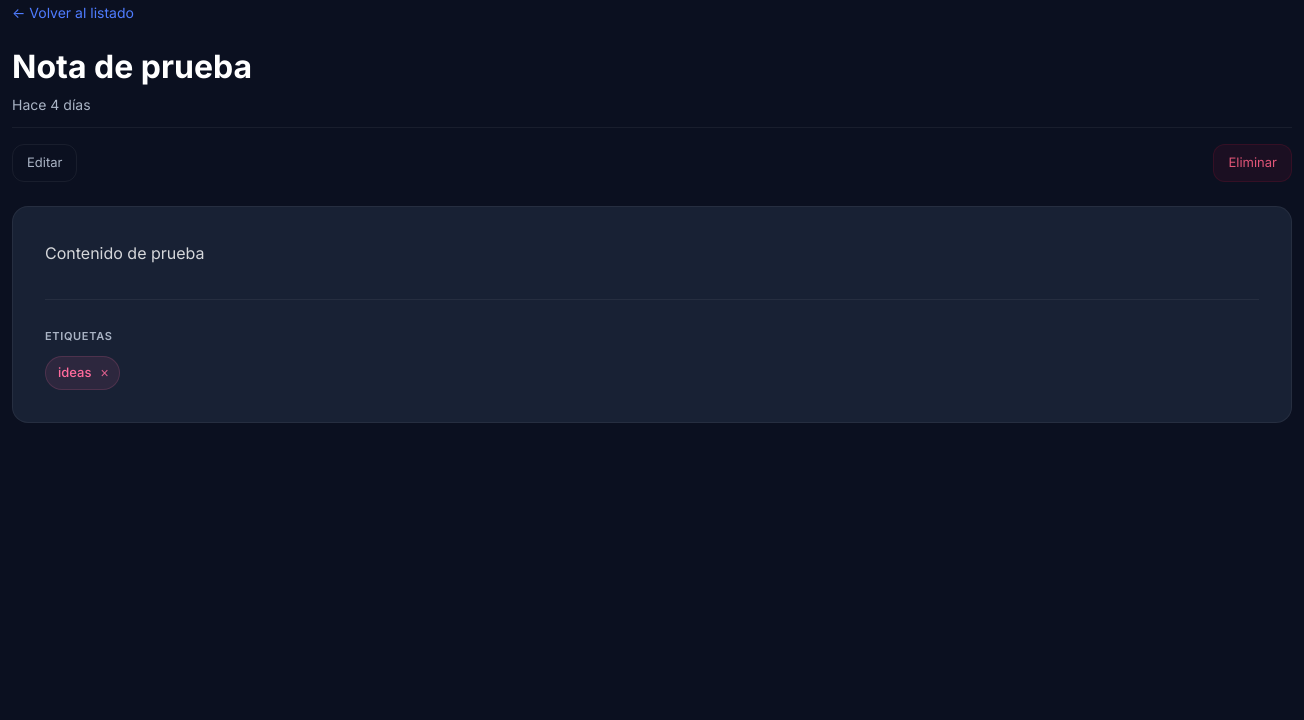
Test case: NoteDetailPage editorial edit › wraps edit mode with editorial page class for MindVault form styling
Step 1. Click the button "Editar" → (45, 163), box [12,144,77,182]
(page scrolled)
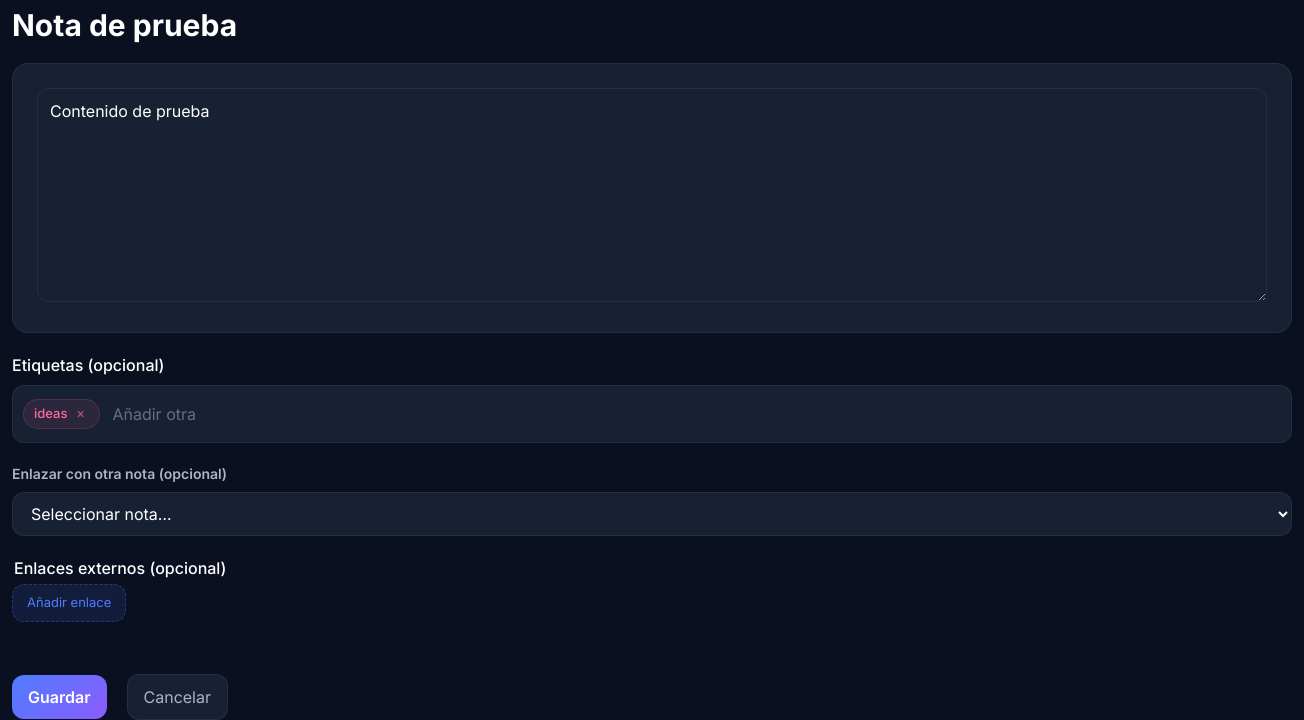
Expected: the form with class "note-form--editorial" is shown
